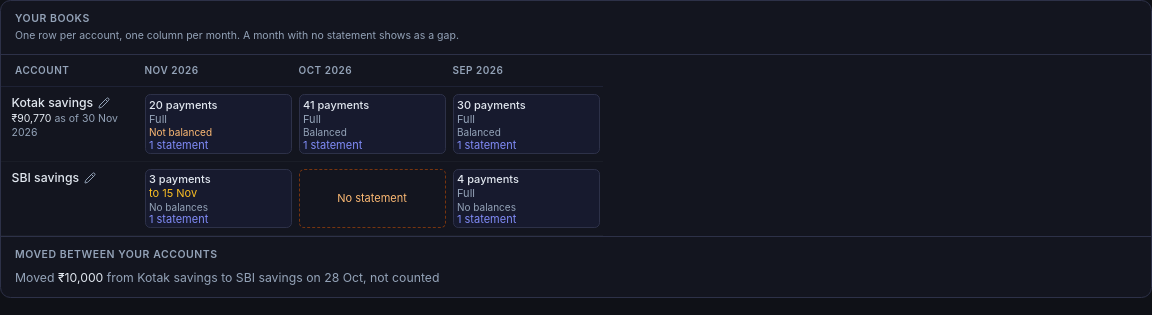
Test: BooksGrid › Escape cancels a rename
The width and height of the screenshot is (1152, 315).
Click the button named "Rename Kotak savings".
click(104, 103)  # box [98,97,110,109]
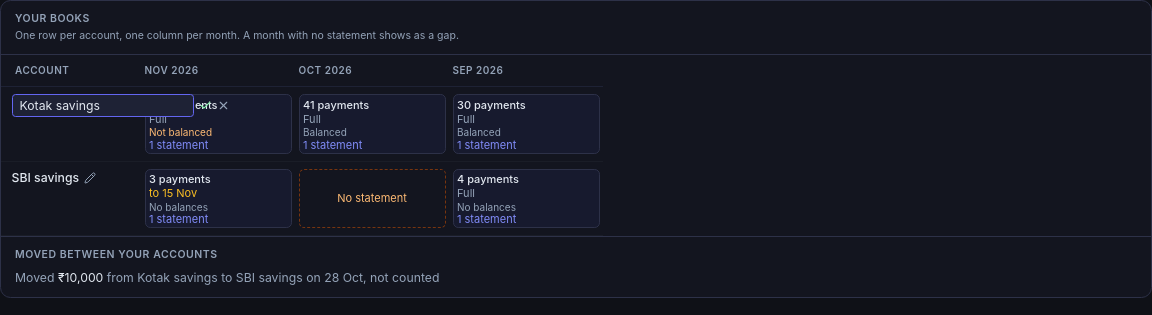
Press Escape
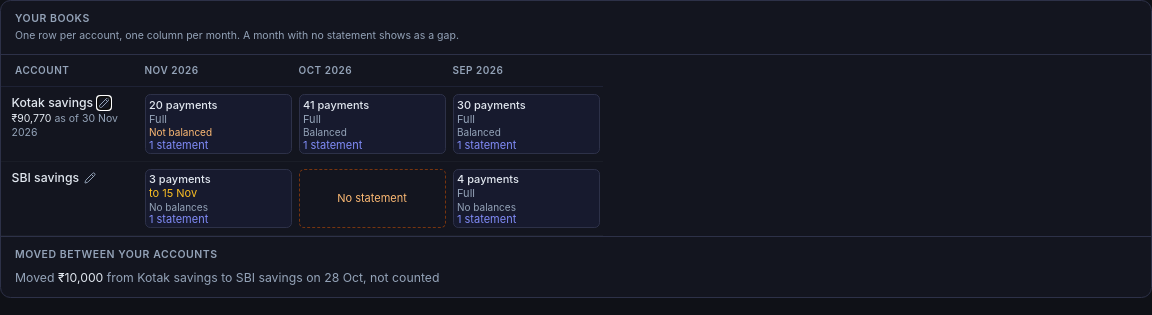
expect the field is gone: met
